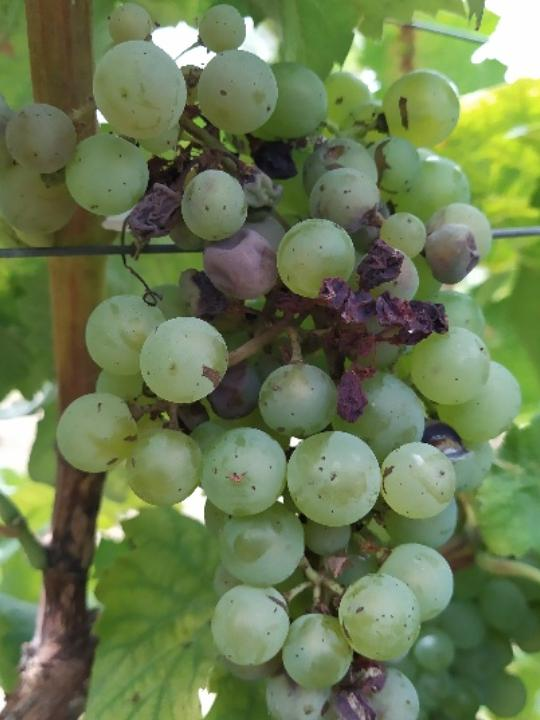grape: (0, 0, 525, 720)
